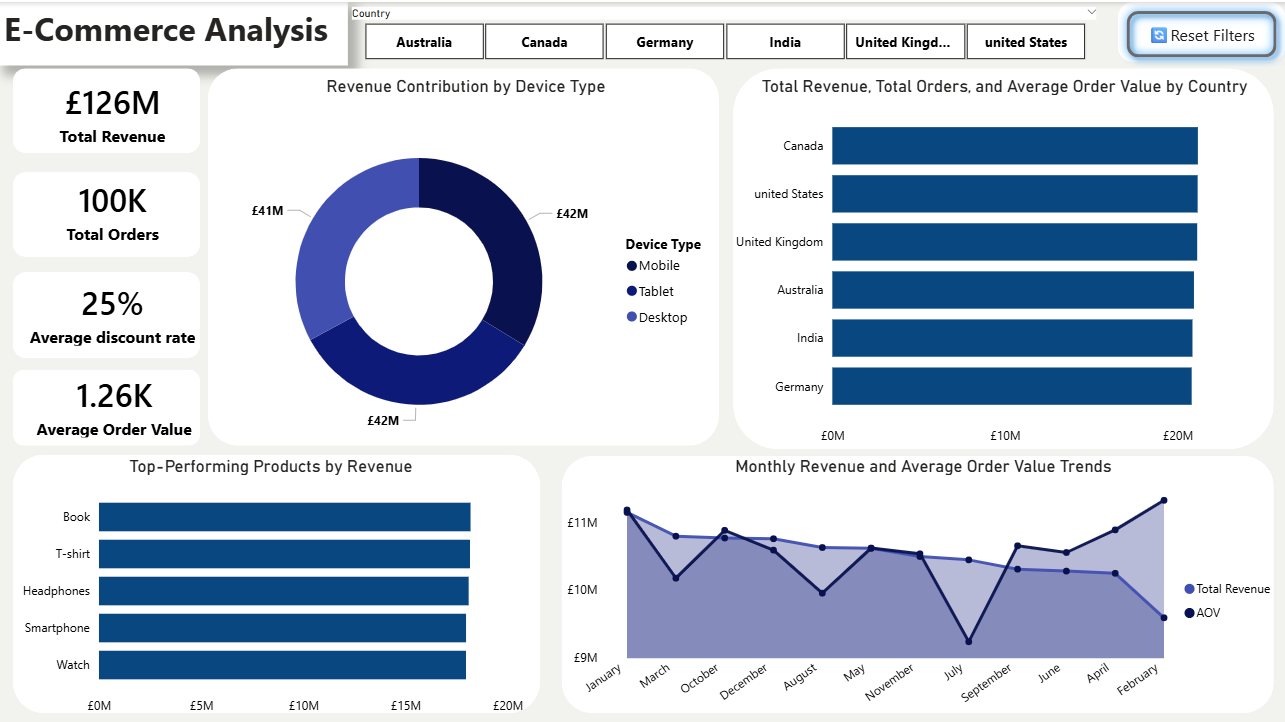

Layout of this report page (visuals, bound fields, positions):
{"tool":"powerbi","page":{"name":"Page 1","canvas":[1280,720],"ordinal":0},"visuals":[{"type":"shape","box":[207.8,65.9,508.8,375.7],"z":0,"group":"g1"},{"type":"shape","box":[730.2,65.9,538.6,379.4],"z":1000,"group":"g1"},{"type":"shape","box":[13.7,450.3,525,257.5],"z":2000,"group":"g1"},{"type":"shape","box":[559.8,451.6,709.1,256.3],"z":3000,"group":"g1"},{"type":"shape","box":[13.7,65.9,186.6,84.6],"z":4000,"group":"g1"},{"type":"shape","box":[13.7,169.2,186.6,84.6],"z":5000,"group":"g1"},{"type":"textbox","box":[0,0,347.2,63.1],"z":6000},{"type":"shape","box":[13.7,268.7,186.6,85.8],"z":6000,"group":"g1"},{"type":"shape","box":[13.7,365.7,186.6,75.9],"z":7000,"group":"g1"},{"type":"group","id":"g1","title":"Group 1","box":[13.7,0,1266.4,707.8],"z":10000},{"type":"cardVisual","fields":{"Data":["_Measures.Total Revenue"]},"box":[0,62.2,226.4,97],"z":11000},{"type":"cardVisual","fields":{"Data":["_Measures.Total Orders"]},"box":[0,159.2,226.4,97],"z":12000},{"type":"cardVisual","fields":{"Data":["_Measures.AOV"]},"box":[4.2,353.4,222.6,97.4],"z":13000},{"type":"cardVisual","fields":{"Data":["_Measures.Average discount rate"]},"box":[0,261.2,226.4,98.3],"z":14000},{"type":"lineChart","title":"Monthly Revenue and Average Order Value Trends","fields":{"Y":["_Measures.Total Revenue"],"Y2":["_Measures.AOV"],"Category":["Cleaned_Dataset.month.Variation.Date Hierarchy.Month"]},"box":[559.8,451.6,720.3,268.7],"z":15000},{"type":"donutChart","title":"Revenue Contribution by Device Type","fields":{"Category":["Working_Sheet.Device Type"],"Y":["_Measures.Total Revenue"]},"box":[207.7,73.4,513.8,390.6],"z":16000},{"type":"slicer","fields":{"Values":["Working_Sheet.Country"]},"box":[338.1,0,766.6,64],"z":17000},{"type":"barChart","title":"Total Revenue, Total Orders, and Average Order Value by Country","fields":{"Category":["Working_Sheet.Country"],"Y":["_Measures.Total Revenue"]},"box":[721.5,73.4,558.5,376.9],"z":18000},{"type":"barChart","title":"Top-Performing Products by Revenue","fields":{"Category":["Cleaned_Dataset.Product Name"],"Y":["_Measures.Total Revenue"]},"box":[13.7,451.6,513.8,267.5],"z":19000},{"type":"actionButton","title":"🔄Reset Filters","box":[1105.1,12.2,153.3,40.2],"z":20000}]}

Visuals, with their boxes in screenshot pixels (x1, y1, x2, y2), scaled from the page's 1280x720 canvas onto the 1285x722 screenshot:
shape: (209, 66, 719, 443)
shape: (733, 66, 1274, 447)
shape: (14, 452, 541, 710)
shape: (562, 453, 1274, 710)
shape: (14, 66, 201, 151)
shape: (14, 170, 201, 255)
textbox: (0, 0, 349, 63)
shape: (14, 269, 201, 355)
shape: (14, 367, 201, 443)
"Group 1" group: (14, 0, 1284, 710)
cardVisual - _Measures.Total Revenue: (0, 62, 227, 160)
cardVisual - _Measures.Total Orders: (0, 160, 227, 257)
cardVisual - _Measures.AOV: (4, 354, 228, 452)
cardVisual - _Measures.Average discount rate: (0, 262, 227, 360)
"Monthly Revenue and Average Order Value Trends" lineChart: (562, 453, 1284, 721)
"Revenue Contribution by Device Type" donutChart: (209, 74, 724, 465)
slicer - Working_Sheet.Country: (339, 0, 1109, 64)
"Total Revenue, Total Orders, and Average Order Value by Country" barChart: (724, 74, 1284, 452)
"Top-Performing Products by Revenue" barChart: (14, 453, 530, 721)
"🔄Reset Filters" actionButton: (1109, 12, 1263, 53)
